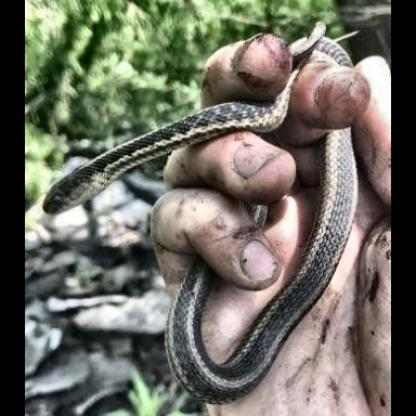Snake: (43, 32, 360, 396)
